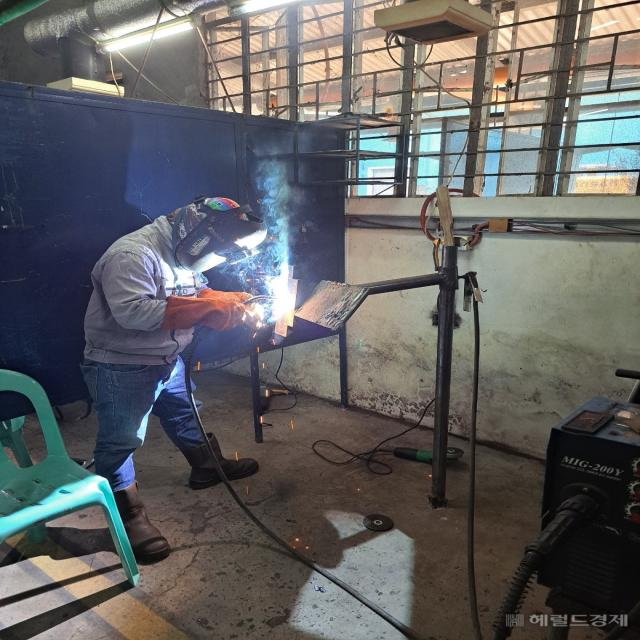welding: (265, 276, 295, 322)
